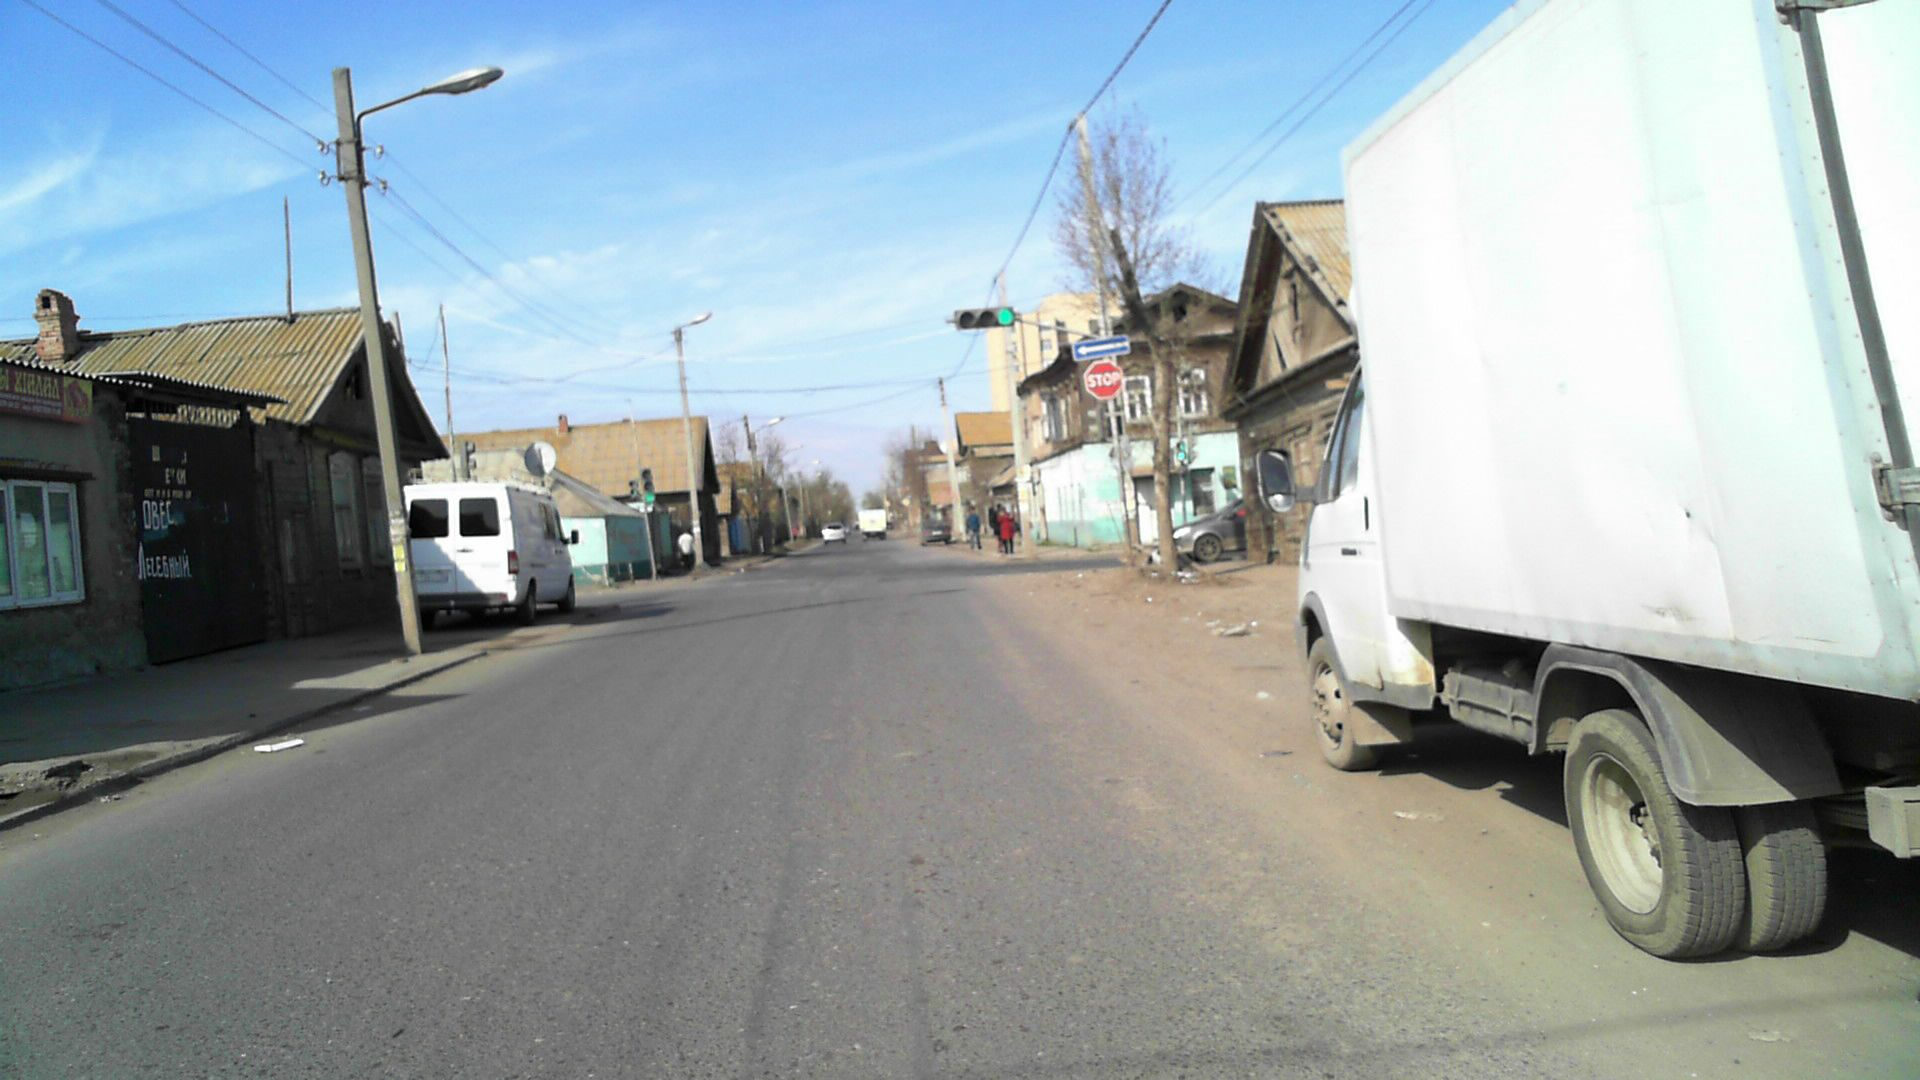One-Way Traffic: (1073, 335, 1131, 359)
